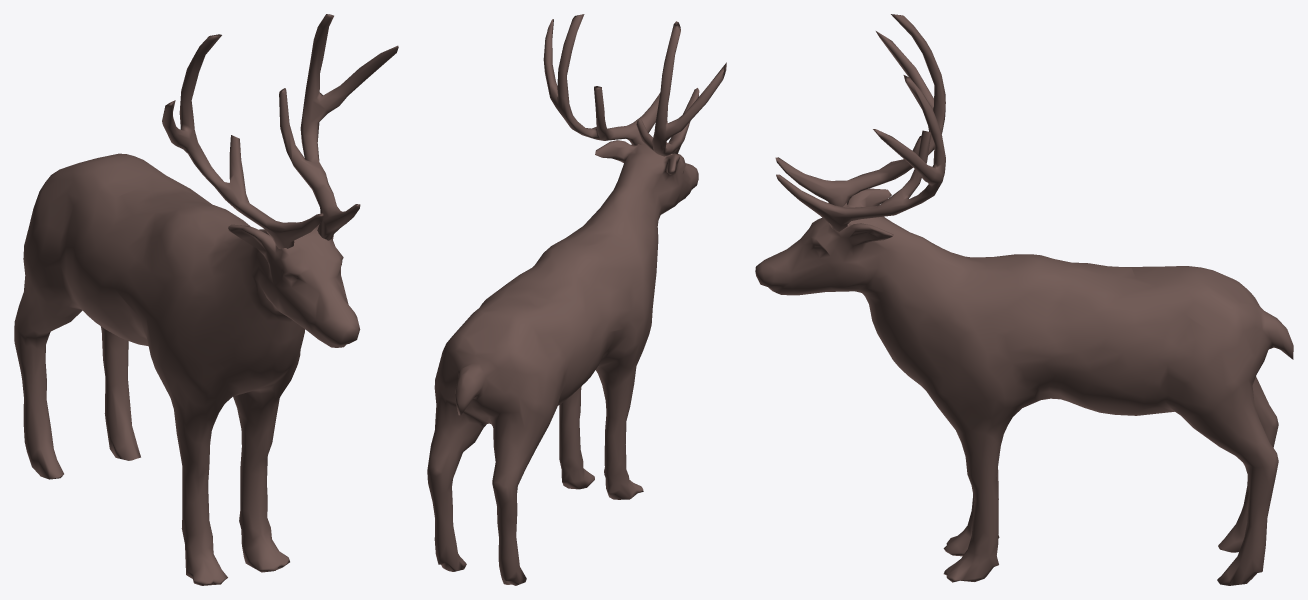
File: Character_Reindeer_01.fbx
The picture shows the model from 3 angles, left to right: view 1: azimuth 30°, elevation 25°; view 2: azimuth 150°, elevation 25°; view 3: azimuth 270°, elevation 25°; orthographic projection. The views are drawn at different scales.
Visible parts, largest first — view 1: PM3D_ZSphere_Reindeer_012; view 2: PM3D_ZSphere_Reindeer_012; view 3: PM3D_ZSphere_Reindeer_012.
Boxes of the visible parts, <box> form: PM3D_ZSphere_Reindeer_012: <box>14,14,398,585</box>; PM3D_ZSphere_Reindeer_012: <box>427,14,726,585</box>; PM3D_ZSphere_Reindeer_012: <box>755,14,1293,585</box>.
Bounding box in the file's own units: 1.2 × 2.92 × 2.7.
